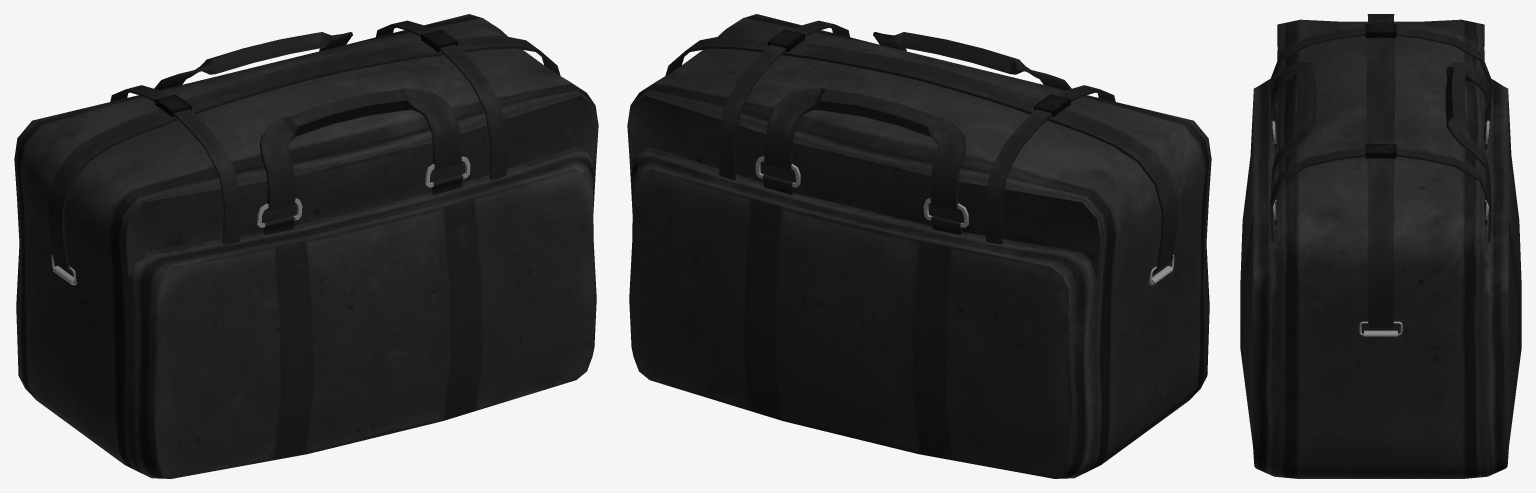
File: SM_Bag2.fbx
3 renders of one model, left to right at view 1: azimuth 30°, elevation 25°; view 2: azimuth 150°, elevation 25°; view 3: azimuth 270°, elevation 25°, orthographic. The views are drawn at different scales.
Visible parts, largest first — view 1: SM_Bag2_LOD0; view 2: SM_Bag2_LOD0; view 3: SM_Bag2_LOD0.
Boxes of the visible parts, x1,y1,x2,y2 form: SM_Bag2_LOD0: (14,14,598,478); SM_Bag2_LOD0: (627,14,1211,478); SM_Bag2_LOD0: (1240,14,1521,478).
Size of the model in its own units: 65.2 by 34.04 by 40.03.
